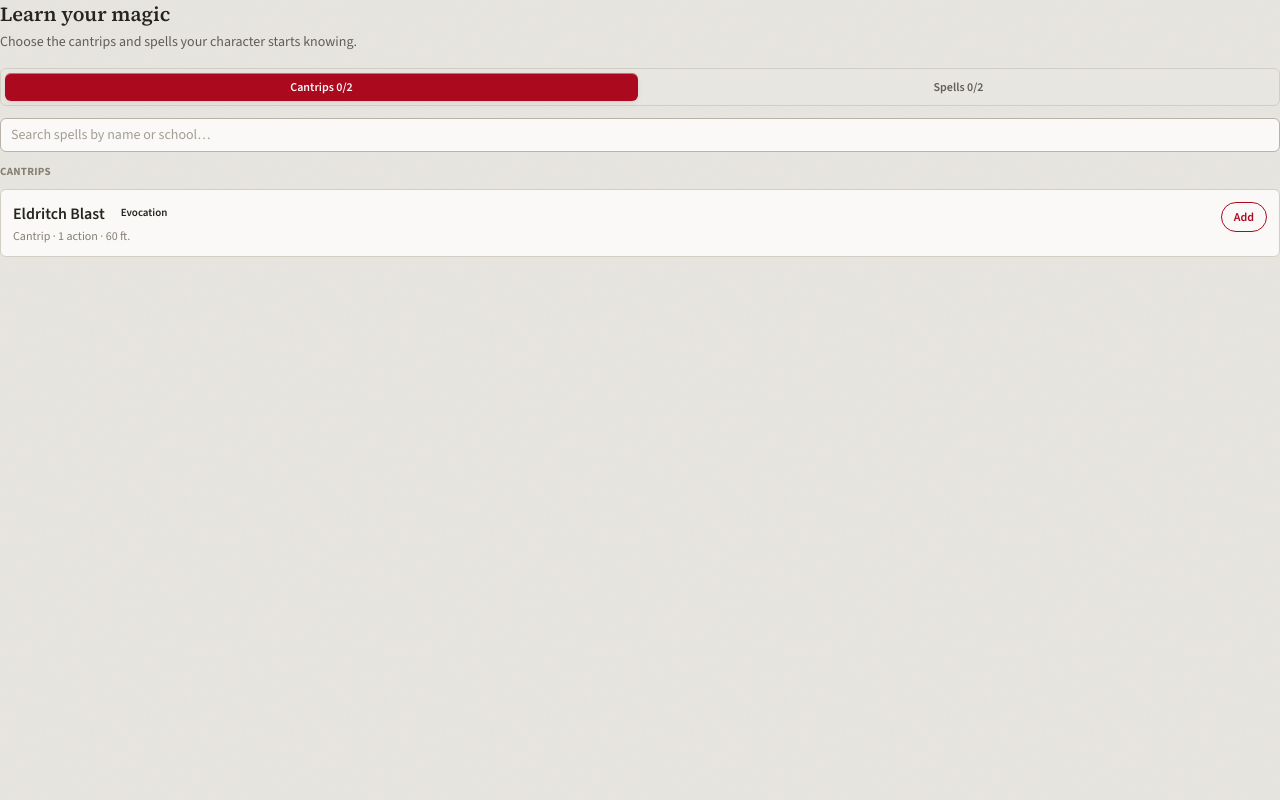
Test: CreationSpellsStep › opens a row's description
Click the button with aria-label "Open Eldritch Blast" at (59, 213), box [13,202,1209,244]
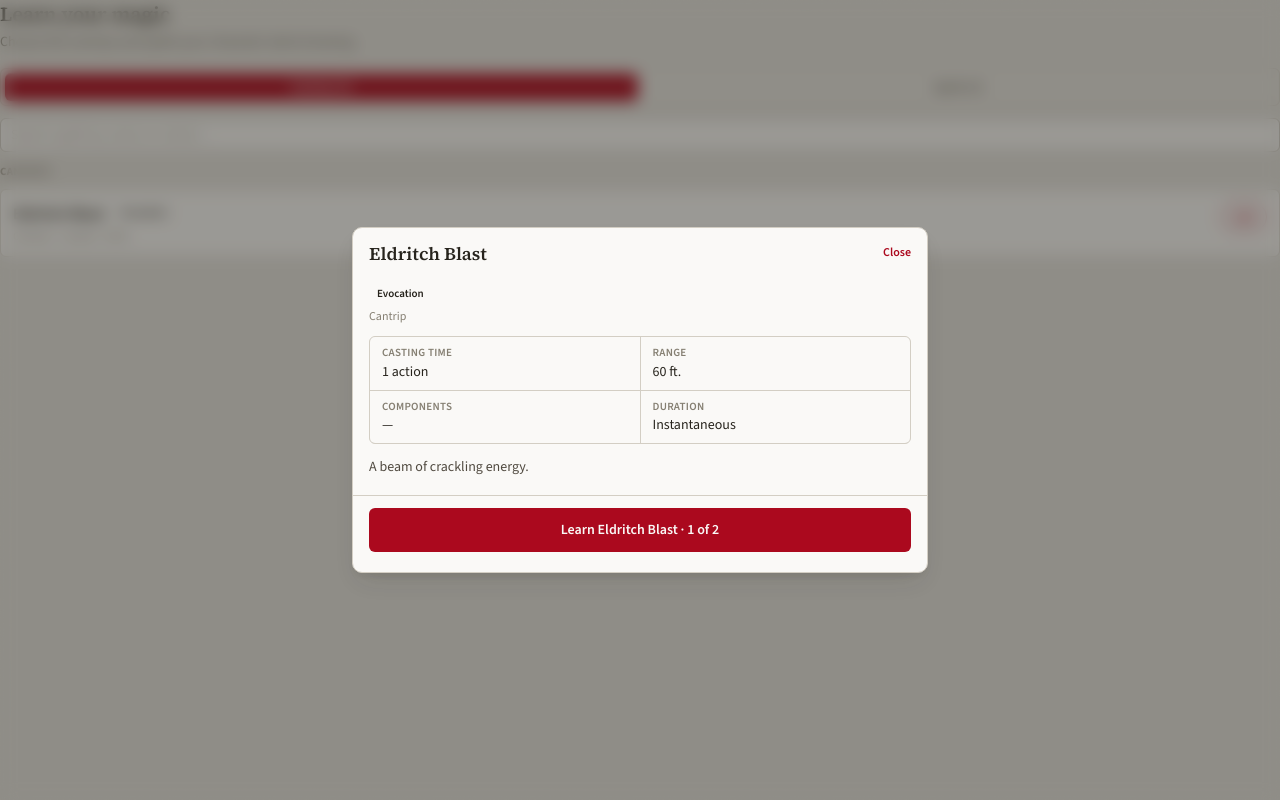
Result: the text "A beam of crackling energy." is shown at [369,457,529,476]
